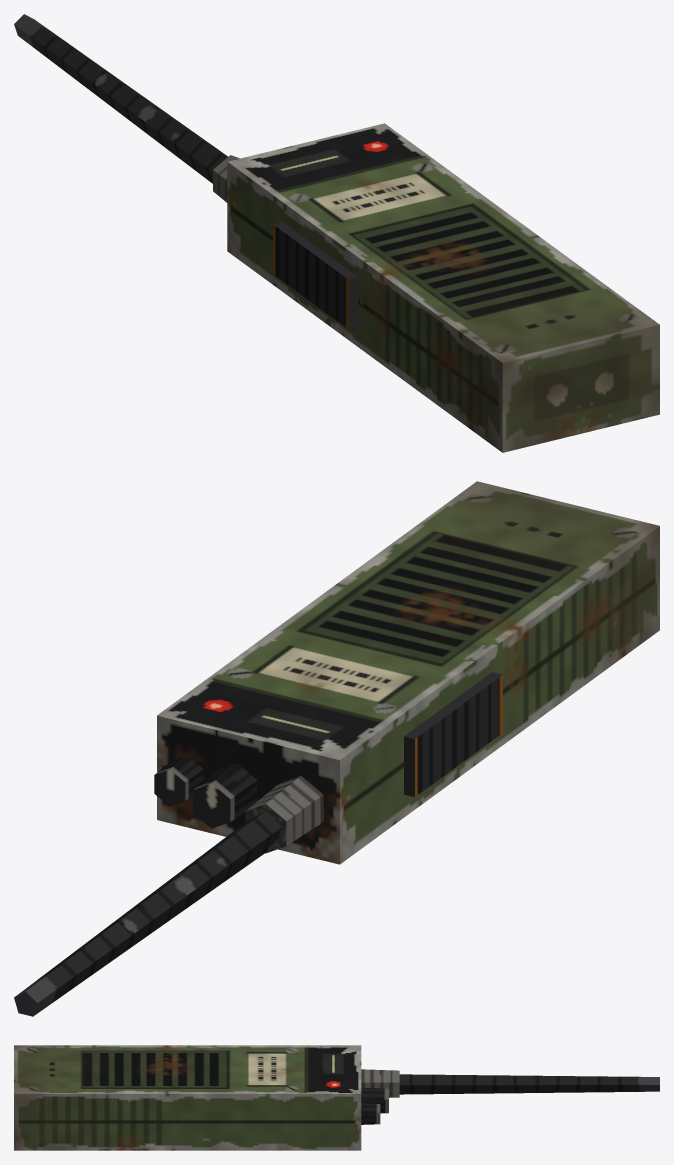
File: SM_WalkieTalkie.fbx
3 renders of one model, top to bottom at view 1: azimuth 30°, elevation 25°; view 2: azimuth 150°, elevation 25°; view 3: azimuth 270°, elevation 25°, orthographic. The views are drawn at different scales.
Parts seen in each view (by area): view 1: SM_WalkieTalkie; view 2: SM_WalkieTalkie; view 3: SM_WalkieTalkie.
Part boxes in pixels (box(x1,y1,x2,y2)): SM_WalkieTalkie: box(14, 14, 659, 452); SM_WalkieTalkie: box(14, 481, 659, 1016); SM_WalkieTalkie: box(14, 1045, 659, 1150).
Bounding box in the file's own units: 7 × 3.6 × 37.2.
1 material, 1 textured.
